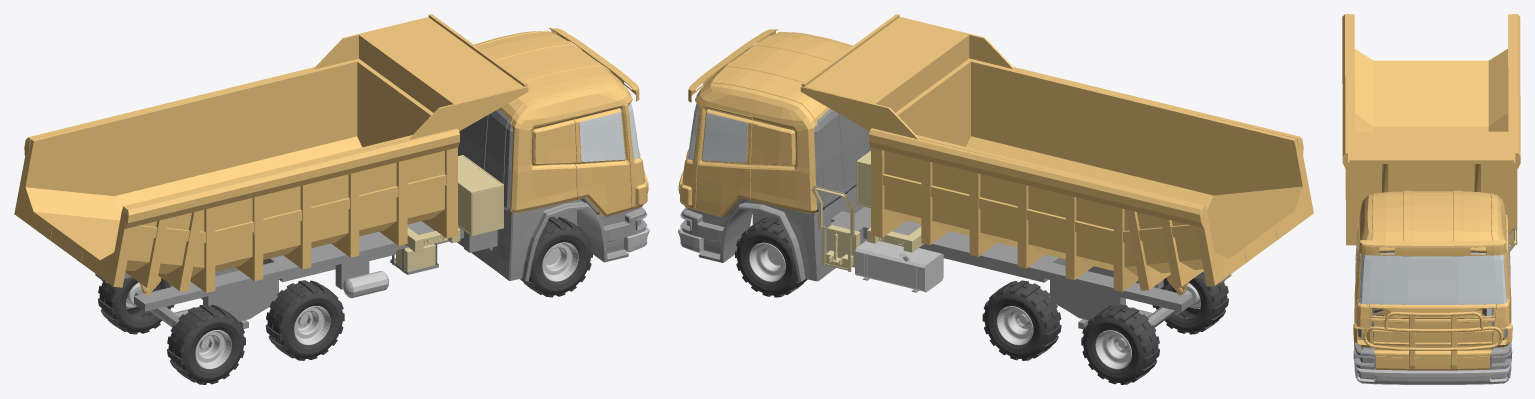
3 renders of one model, left to right at view 1: azimuth 30°, elevation 25°; view 2: azimuth 150°, elevation 25°; view 3: azimuth 270°, elevation 25°, orthographic. The views are drawn at different scales.
Parts seen in each view (by area): view 1: dh-c007, dh-c004, dh-c005, dh-c006, dh-c001; view 2: dh-c007, dh-c001, dh-c002, dh-c003, dh-c004; view 3: dh-c007.
Boxes of the visible parts, bbox=[...] form: dh-c007: bbox=[14, 14, 649, 350]; dh-c004: bbox=[167, 304, 245, 384]; dh-c005: bbox=[265, 280, 344, 360]; dh-c006: bbox=[520, 216, 592, 297]; dh-c001: bbox=[98, 277, 174, 334]; dh-c007: bbox=[678, 14, 1313, 350]; dh-c001: bbox=[1081, 304, 1159, 384]; dh-c002: bbox=[982, 280, 1061, 360]; dh-c003: bbox=[735, 217, 807, 297]; dh-c004: bbox=[1152, 277, 1228, 334]; dh-c007: bbox=[1342, 14, 1520, 384].
Size of the model in its own units: 12.37 by 4.93 by 3.99.
